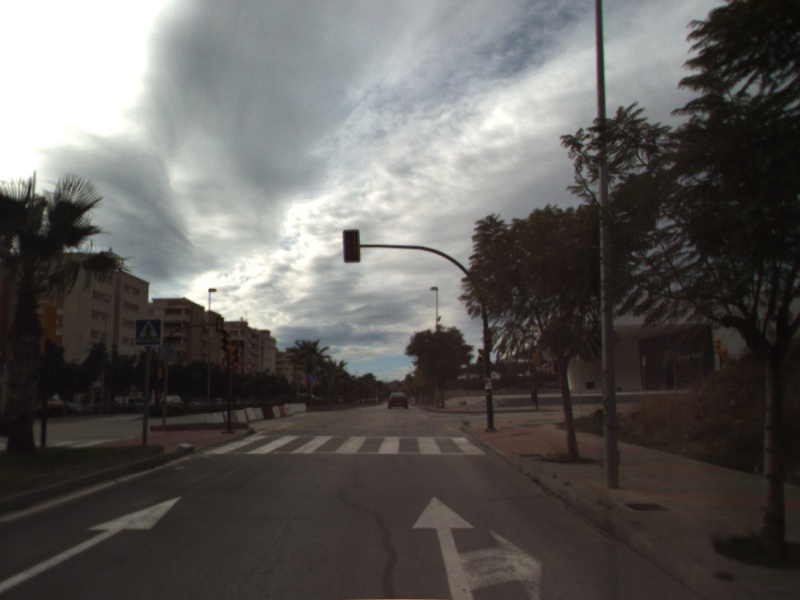STRAIGHT: (1, 494, 183, 594)
STRAIGHT_RIGHT: (410, 493, 545, 600)
